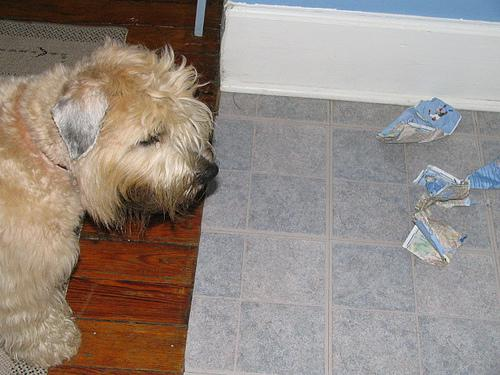dog-wheaten_terrier: (50, 48, 216, 202)
